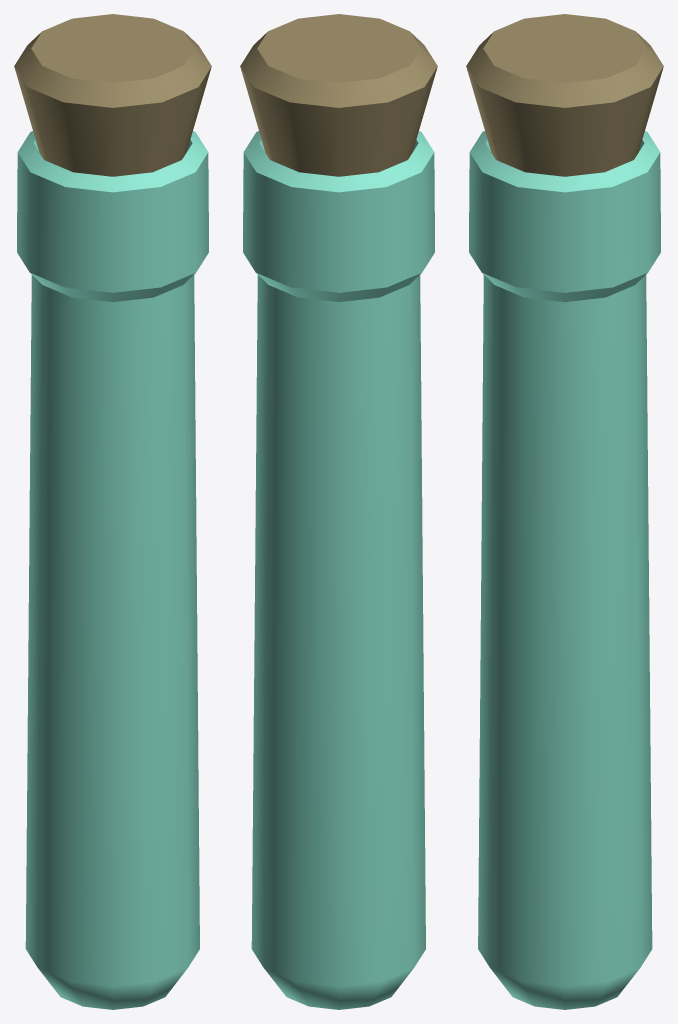
File: Vial.fbx
3 renders of one model, left to right at view 1: azimuth 30°, elevation 25°; view 2: azimuth 150°, elevation 25°; view 3: azimuth 270°, elevation 25°, orthographic.
Visible parts, largest first — view 1: Vial, Cork; view 2: Vial, Cork; view 3: Vial, Cork.
Part boxes in pixels (bbox=[...]): Vial: bbox=[17, 131, 208, 1009]; Cork: bbox=[14, 14, 211, 176]; Vial: bbox=[243, 131, 434, 1009]; Cork: bbox=[240, 14, 437, 176]; Vial: bbox=[469, 131, 660, 1009]; Cork: bbox=[466, 14, 663, 176].
Bounding box in the file's own units: 1.25 × 6.64 × 1.25.
